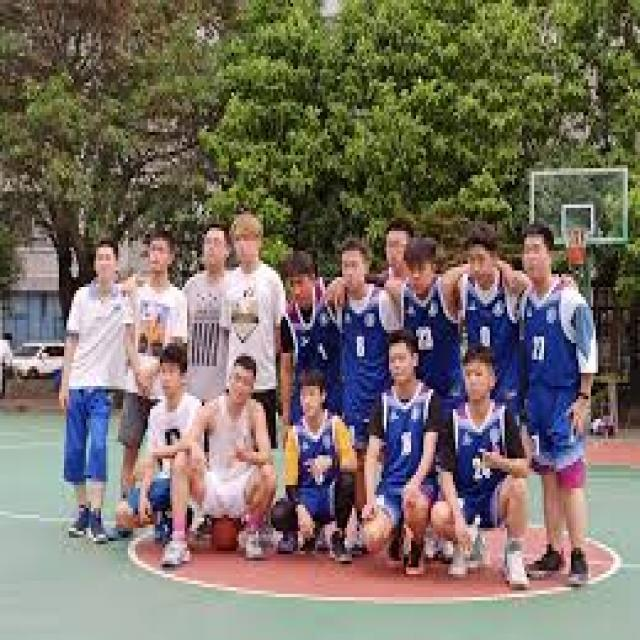rim: (214, 514, 241, 552)
